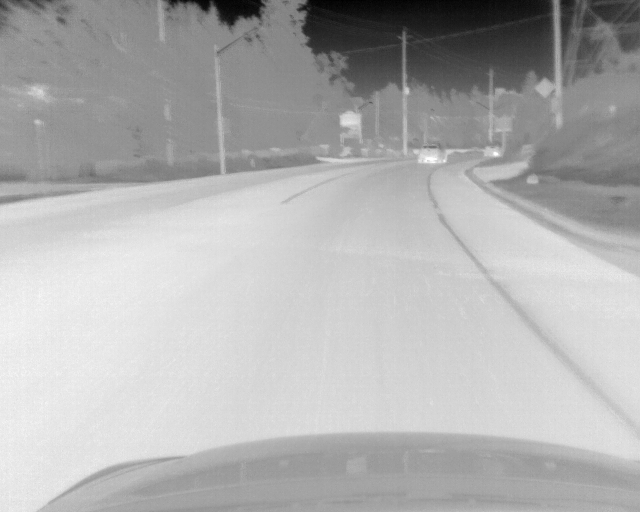car: (417, 144, 447, 163), (483, 143, 501, 157)
